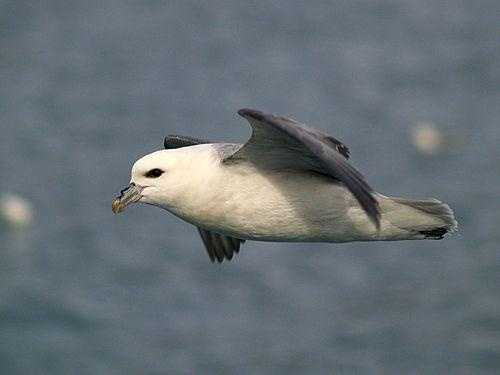bird: (108, 106, 458, 262)
